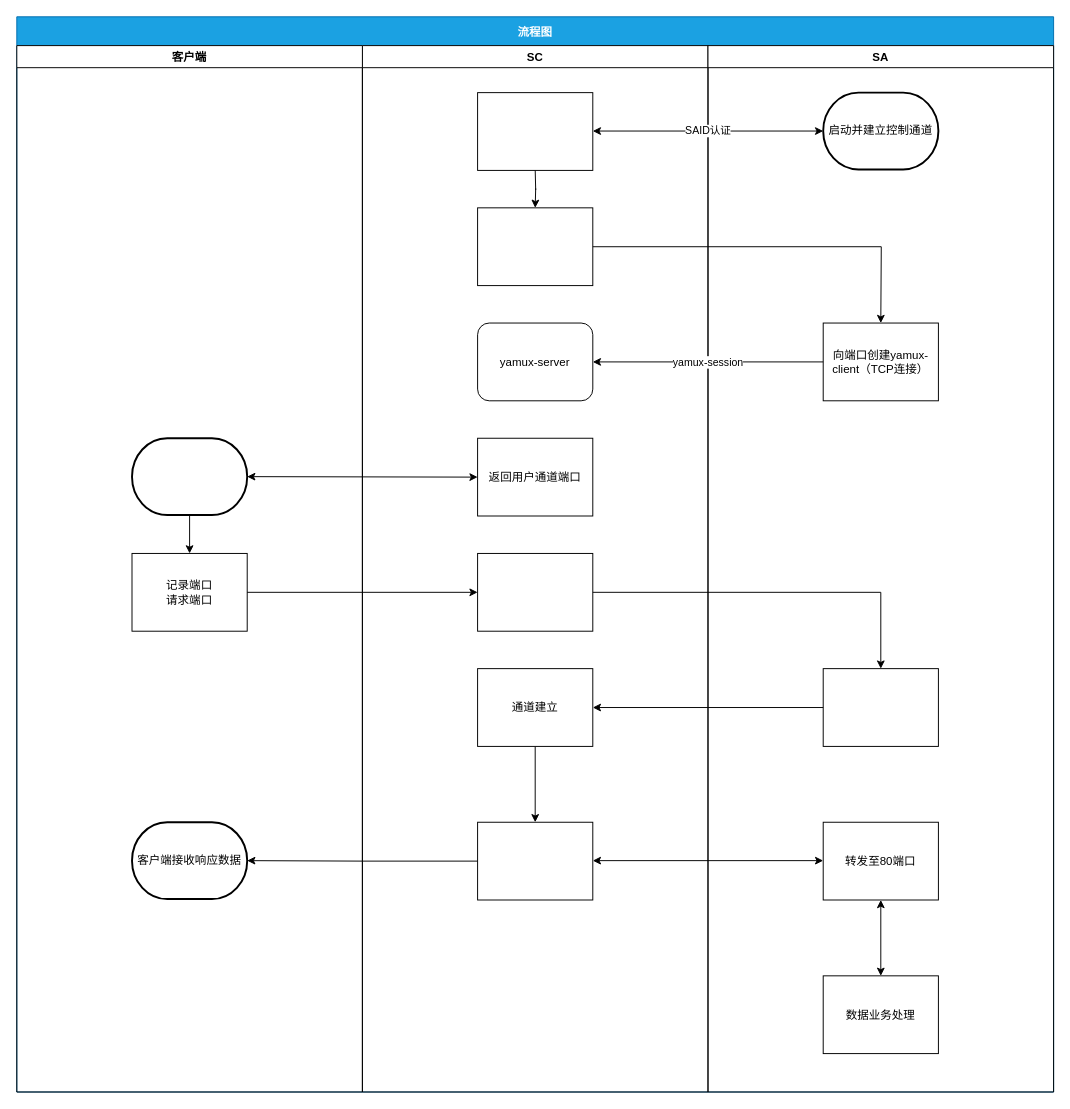
The diagram is 1070 pixels wide and 1109 high, and some of its shapes have lost their labels. Each missing label, with the centre of its shape:
"分配端口" belongs at (x=535, y=246).
"创建stream连接" belongs at (x=880, y=707).
"建立控制通道通道" belongs at (x=535, y=131).
"数据转发" belongs at (x=535, y=860).
"获取端口" belongs at (x=189, y=476).
"通知SA建立通道" belongs at (x=535, y=591).
